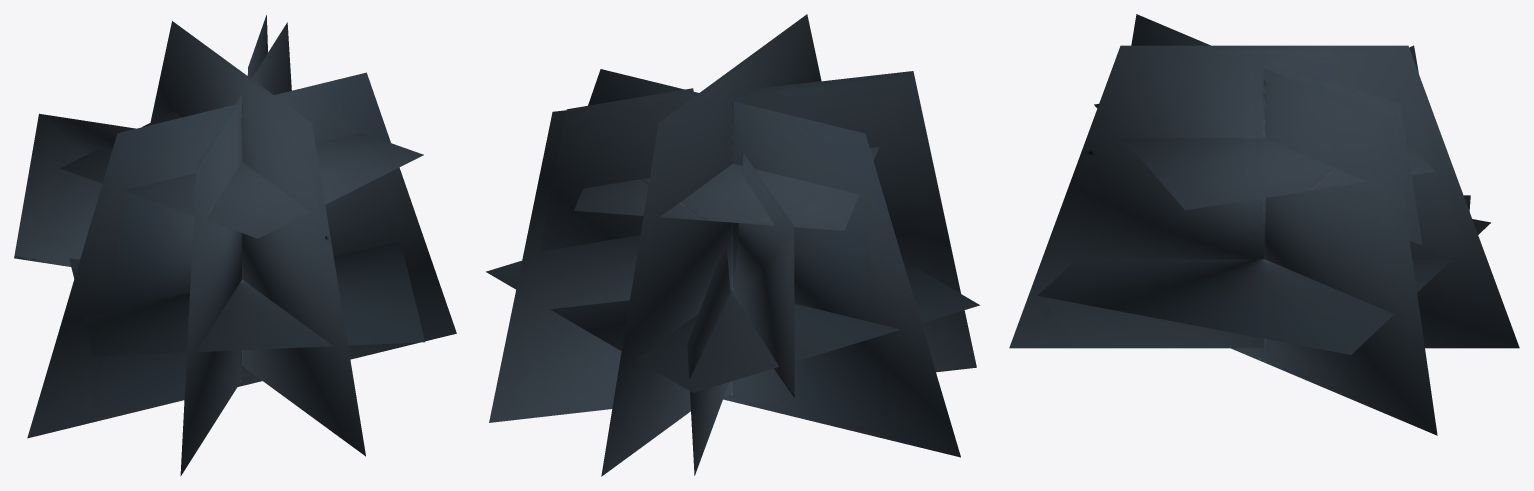
The model's file is park-canopy-two-unit-tripo-original.glb.
3 renders of one model, left to right at view 1: azimuth 30°, elevation 25°; view 2: azimuth 150°, elevation 25°; view 3: azimuth 270°, elevation 25°, orthographic. The views are drawn at different scales.
Parts seen in each view (by area): view 1: Authored_surface; view 2: Authored_surface; view 3: Authored_surface.
Boxes of the visible parts, x1=… form: Authored_surface: x1=14, y1=15, x2=456, y2=476; Authored_surface: x1=486, y1=14, x2=979, y2=476; Authored_surface: x1=1009, y1=14, x2=1519, y2=435.
Bounding box in the file's own units: 1 × 0.6984 × 1.
1 material, 1 textured.
